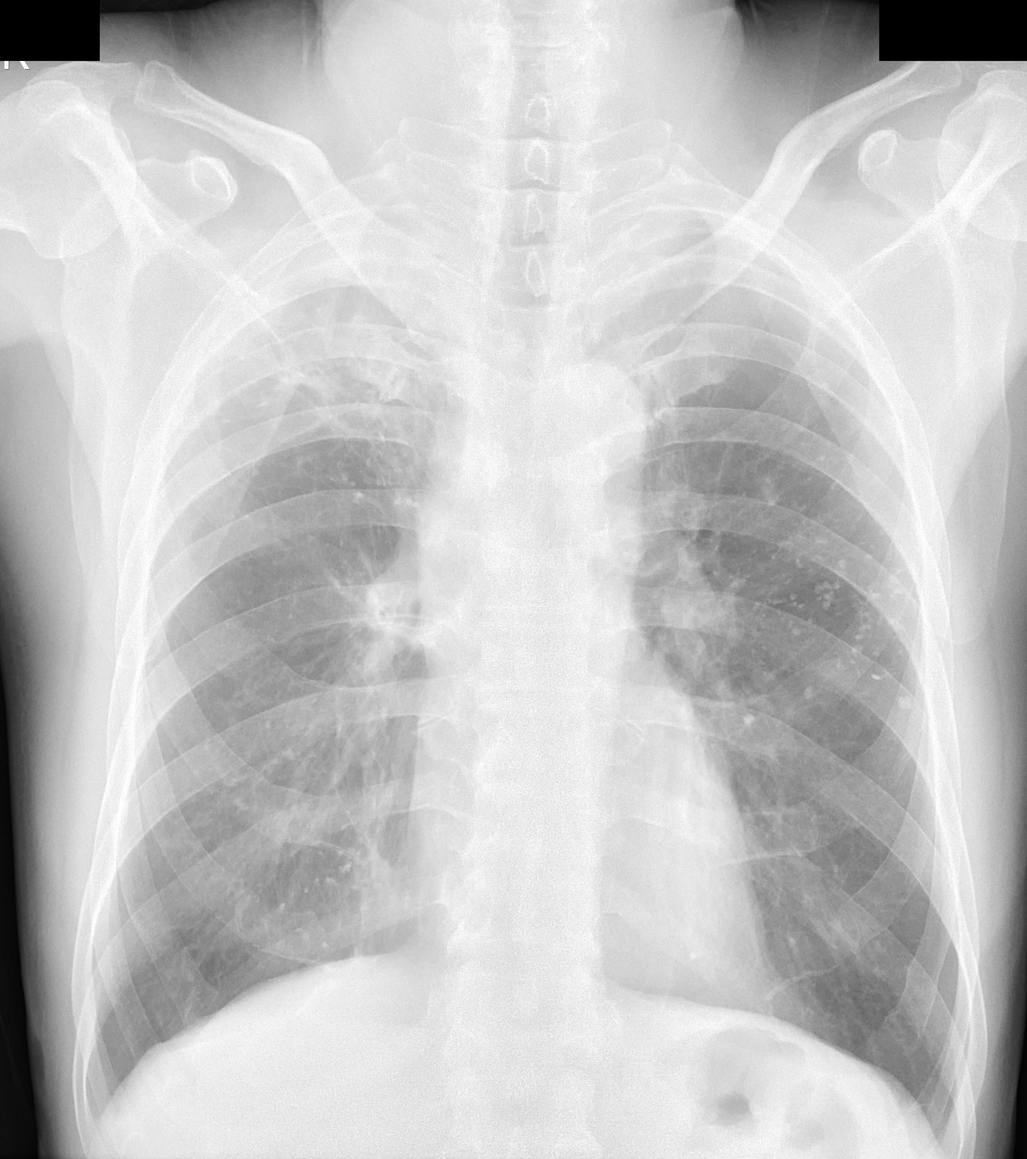Aortic enlargement: (532, 359, 649, 508)
Pleural thickening: (234, 303, 409, 509), (248, 203, 490, 297)
Pulmonary fibrosis: (739, 425, 908, 741), (234, 303, 409, 509), (270, 703, 380, 953)
